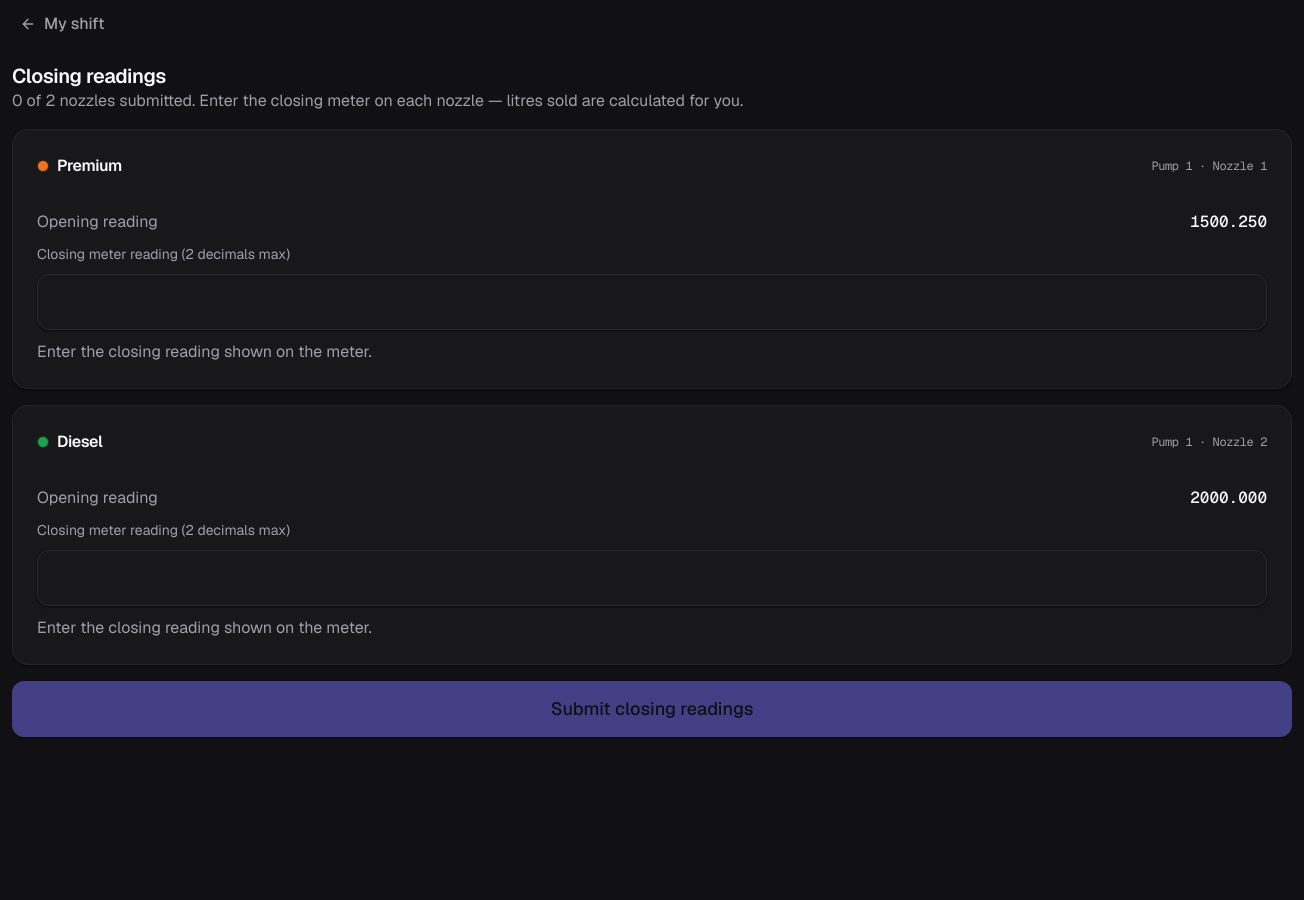
Scenario: ClosingReadingsPage › shows the opening read-only and live-calculates litres sold EXACTLY (no float drift)
expect the text "Opening reading" is shown 2 times: met, box [37,210,158,234]; [37,486,158,510]
Type "1500.35" into the field labelled "Closing meter reading (2 decimals max)" below "1500.250".
click(652, 302); type("1500.35")  # box [37,274,1267,330]
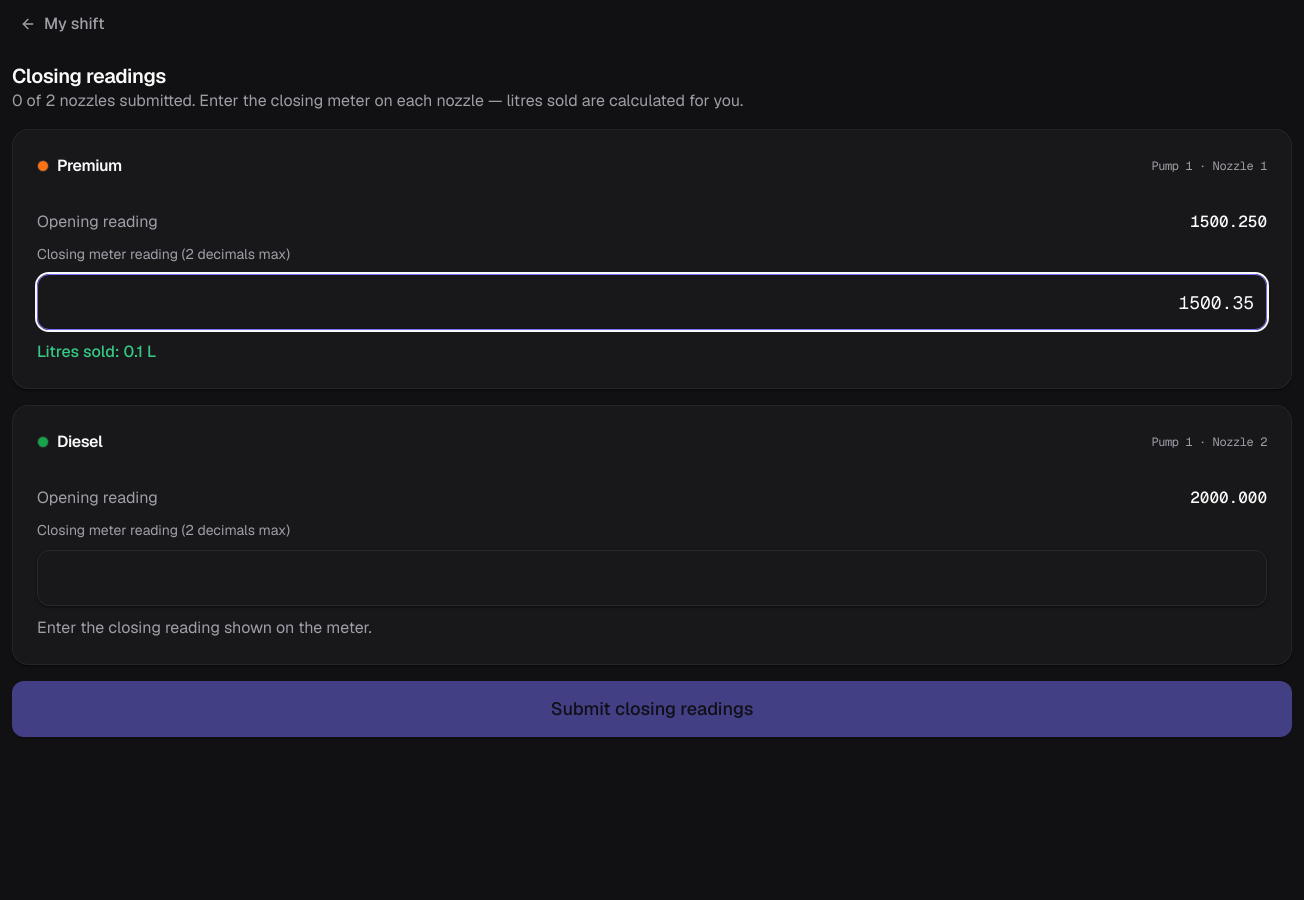
expect the text "Litres sold: 0.1 L" is shown: met, box [37,341,156,362]
Replace the text in the field labelled "Closing meter reading (2 decimals max)" below "1500.250" with "1620.50" at (652, 302), box [37,274,1267,330]
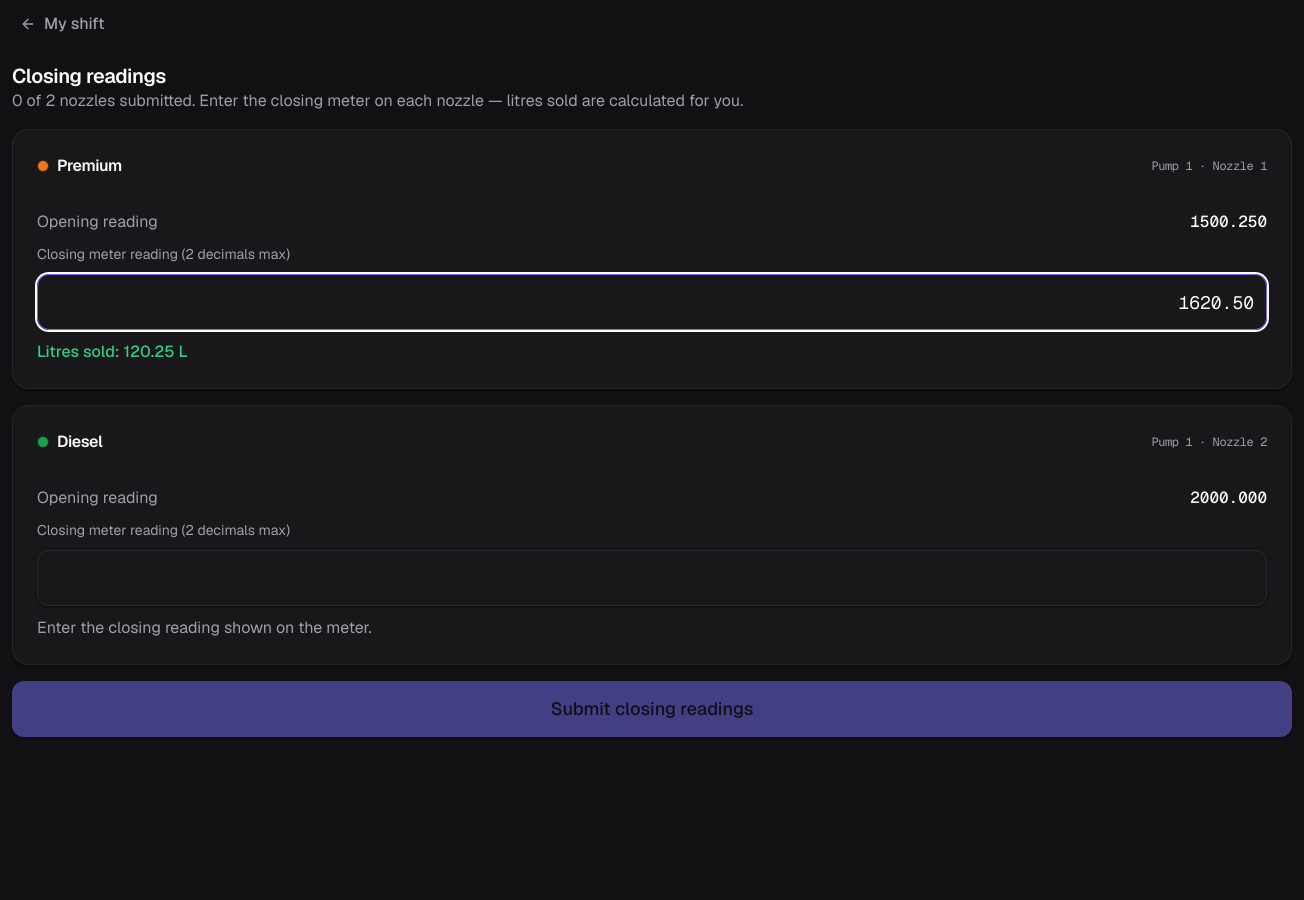
expect the text "Litres sold: 120.25 L" is shown: met, box [37,341,188,362]
